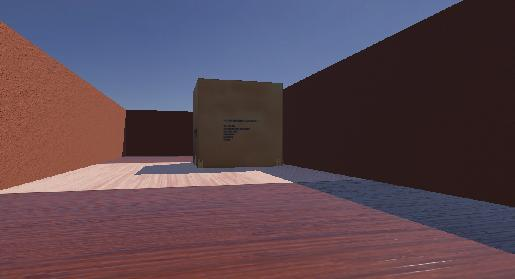CardboardBox: (177, 71, 301, 180)
